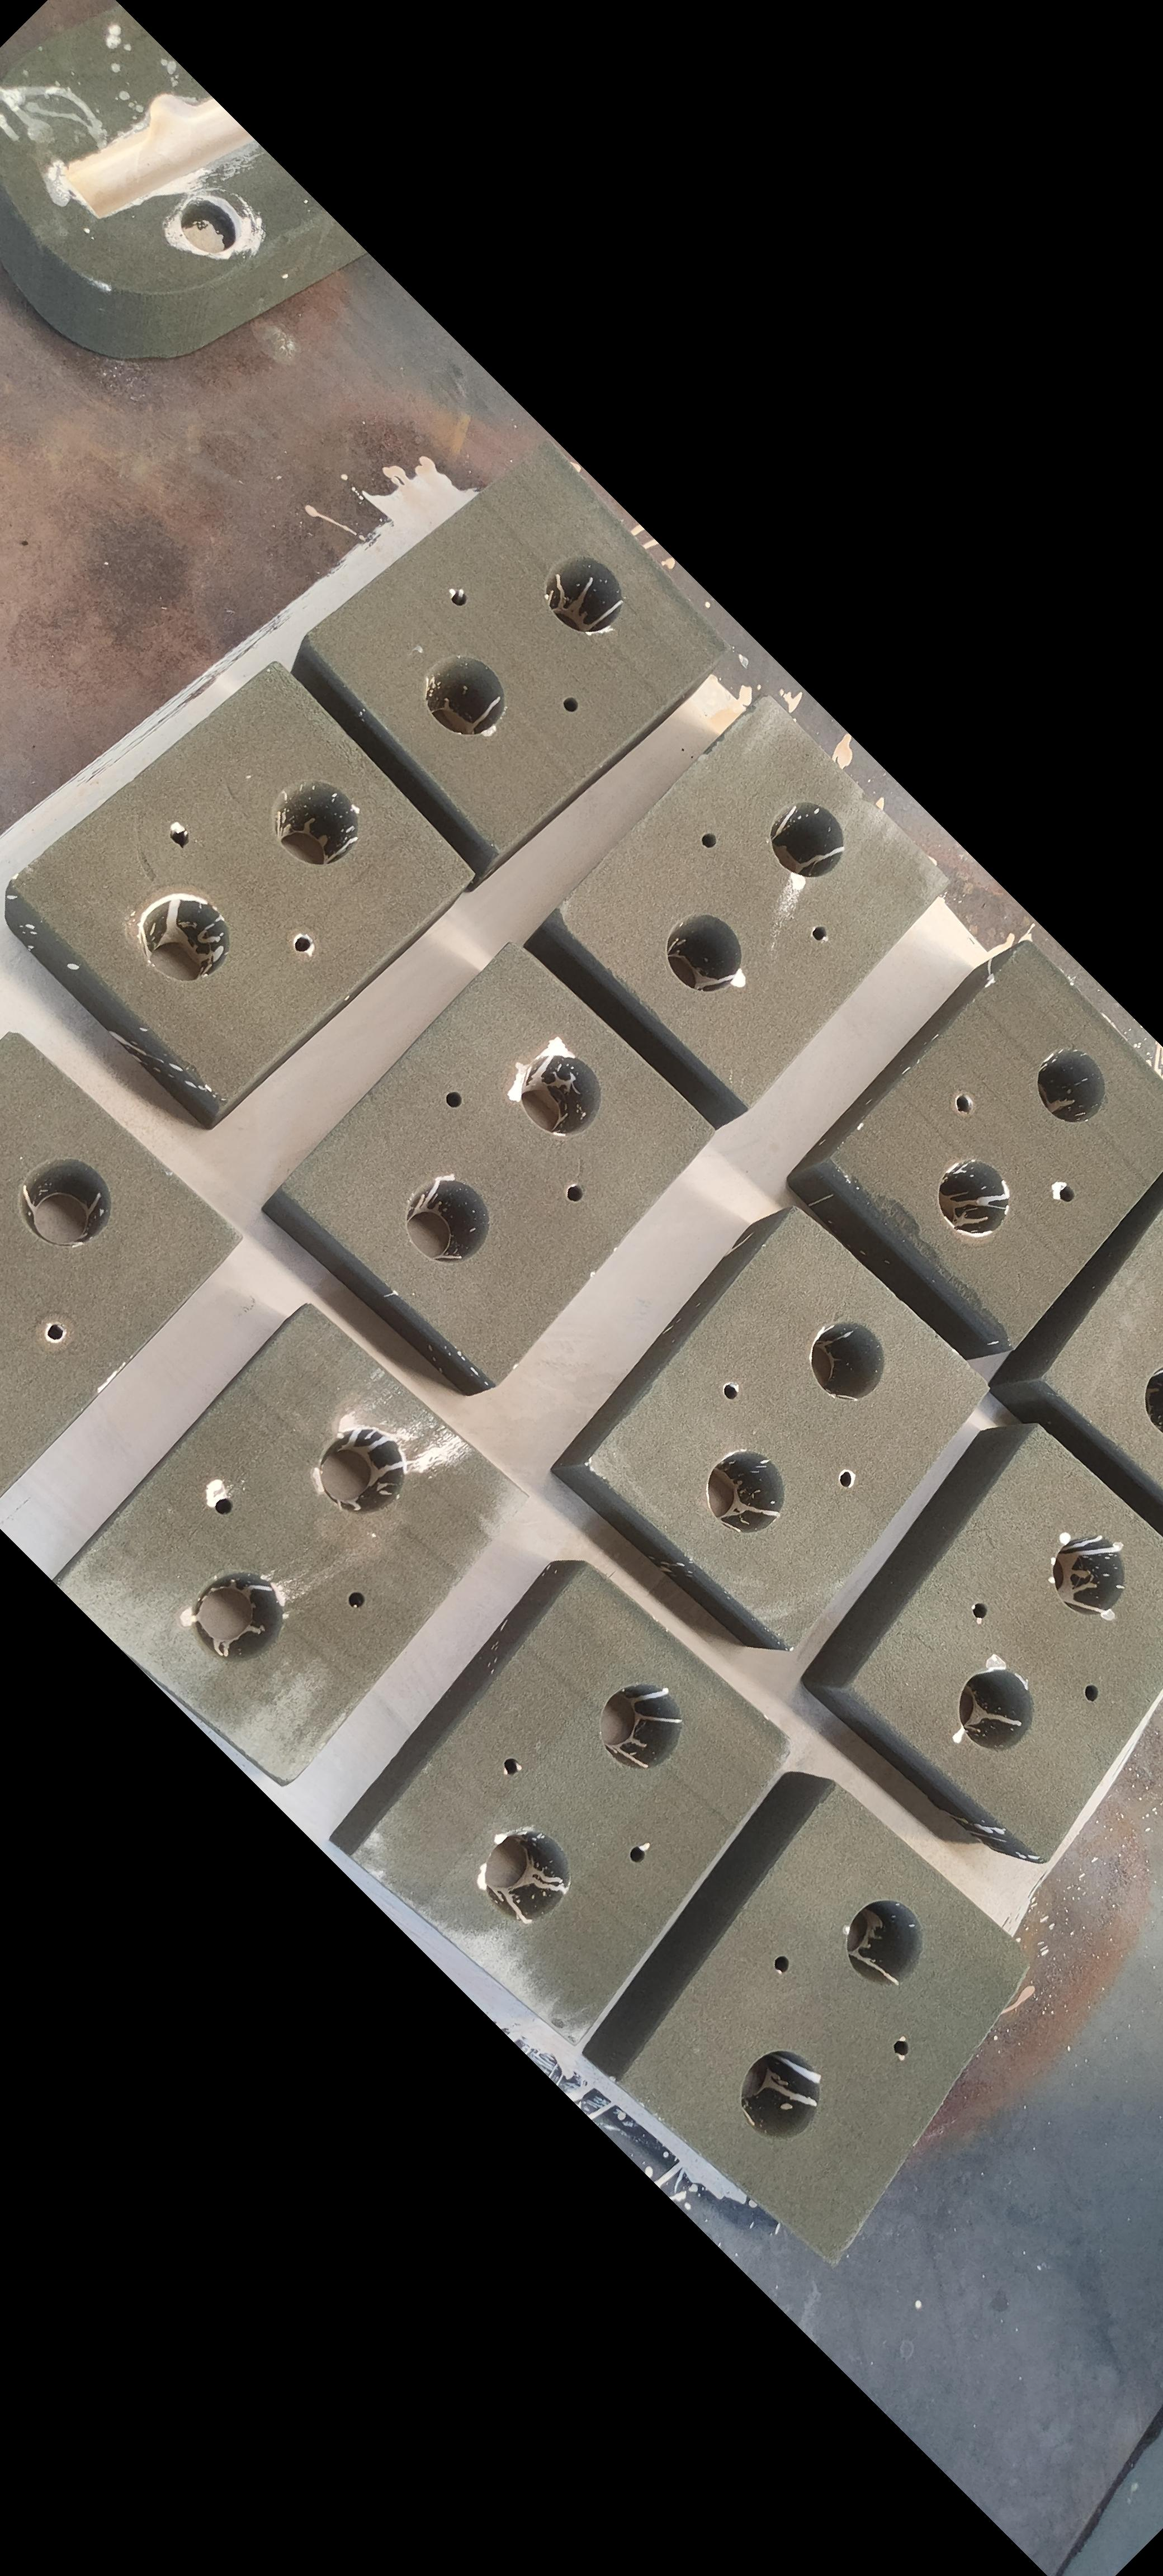pouring hole: (135, 892, 232, 981), (189, 1571, 283, 1661), (18, 1160, 110, 1247), (485, 1827, 570, 1921), (269, 779, 360, 864), (741, 2050, 823, 2142), (319, 1428, 404, 1513), (406, 1180, 490, 1265), (601, 1684, 683, 1771), (705, 1449, 788, 1533), (846, 1899, 923, 1986), (521, 1053, 601, 1134), (422, 656, 504, 734), (958, 1668, 1035, 1750), (544, 555, 623, 633), (665, 913, 741, 992), (810, 1321, 885, 1400), (770, 800, 844, 879), (1053, 1534, 1125, 1613), (936, 1160, 1009, 1235), (1038, 1046, 1106, 1122), (1145, 1364, 1163, 1428)
